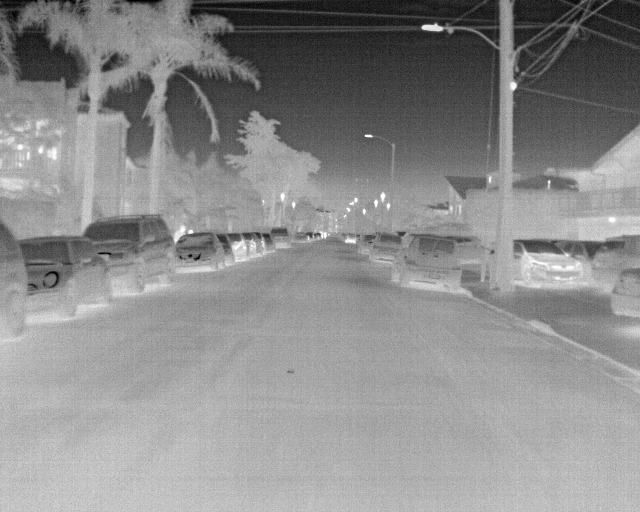car: (15, 235, 111, 319), (86, 213, 173, 296), (390, 227, 460, 292), (0, 220, 28, 344), (512, 239, 581, 286), (588, 233, 635, 287), (177, 230, 231, 268), (553, 238, 601, 278), (608, 262, 639, 322), (367, 233, 397, 264), (222, 232, 248, 261), (214, 233, 235, 265), (268, 224, 292, 251), (356, 234, 376, 255), (241, 230, 257, 256), (258, 232, 275, 252), (293, 230, 309, 244), (342, 232, 358, 245)
